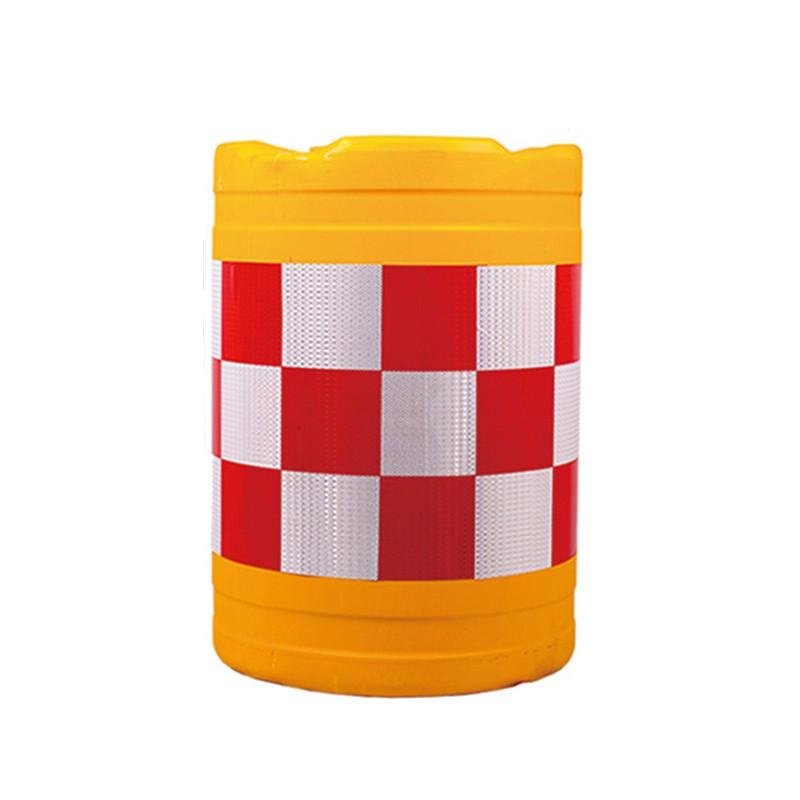sign: (182, 116, 590, 699)
